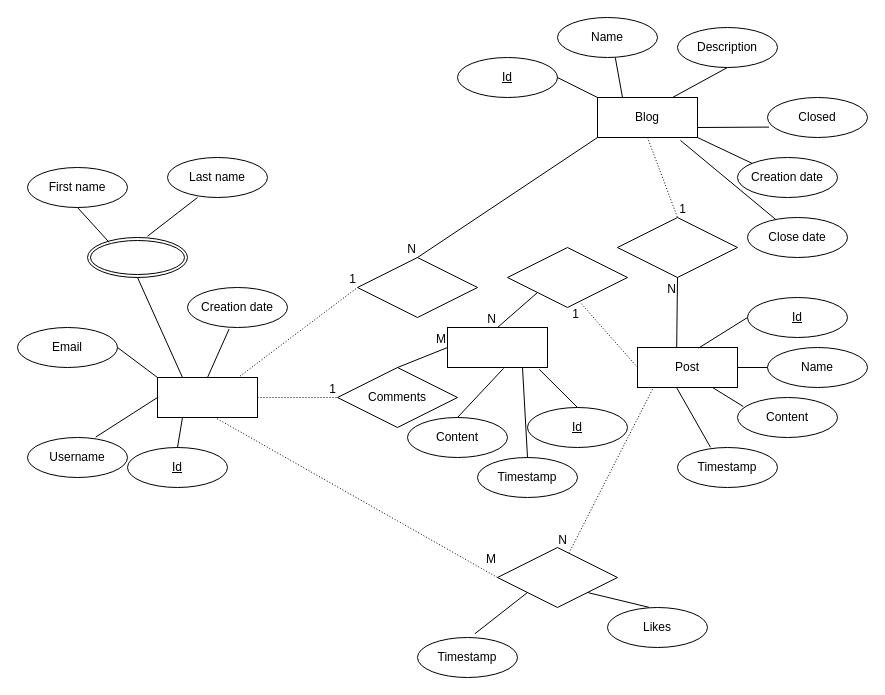
Some shapes in this 885 by 695 pixel diagram are drawn without their labels. The centre of each missing label's shape, as x and y in pixels:
Comment: the point at 497,347
Contains: the point at 677,247
Display name: the point at 137,257
Has comment: the point at 567,277
Owns: the point at 417,287
Reacts: the point at 557,577
User: the point at 207,397
